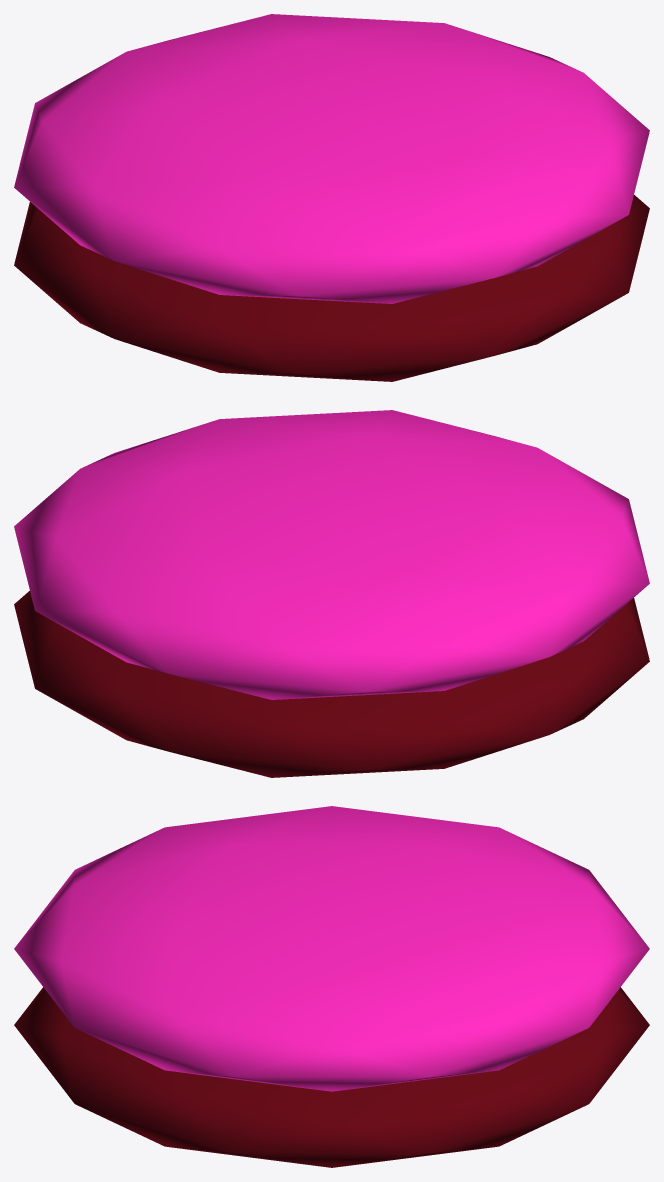
File: Dumper.gltf
The picture shows the model from 3 angles, top to bottom: view 1: azimuth 30°, elevation 25°; view 2: azimuth 150°, elevation 25°; view 3: azimuth 270°, elevation 25°; orthographic projection. The views are drawn at different scales.
Visible parts, largest first — view 1: dumper_glb, dumperb_glb; view 2: dumper_glb, dumperb_glb; view 3: dumper_glb, dumperb_glb.
Part boxes in pixels (left/top/right/bottom): dumper_glb: left=14, top=14, right=649, bottom=303; dumperb_glb: left=14, top=195, right=649, bottom=381; dumper_glb: left=14, top=410, right=649, bottom=699; dumperb_glb: left=14, top=591, right=649, bottom=777; dumper_glb: left=14, top=806, right=649, bottom=1091; dumperb_glb: left=14, top=987, right=649, bottom=1167.
Size of the model in its own units: 0.9511 by 0.3205 by 1.
1 material, 1 textured.
